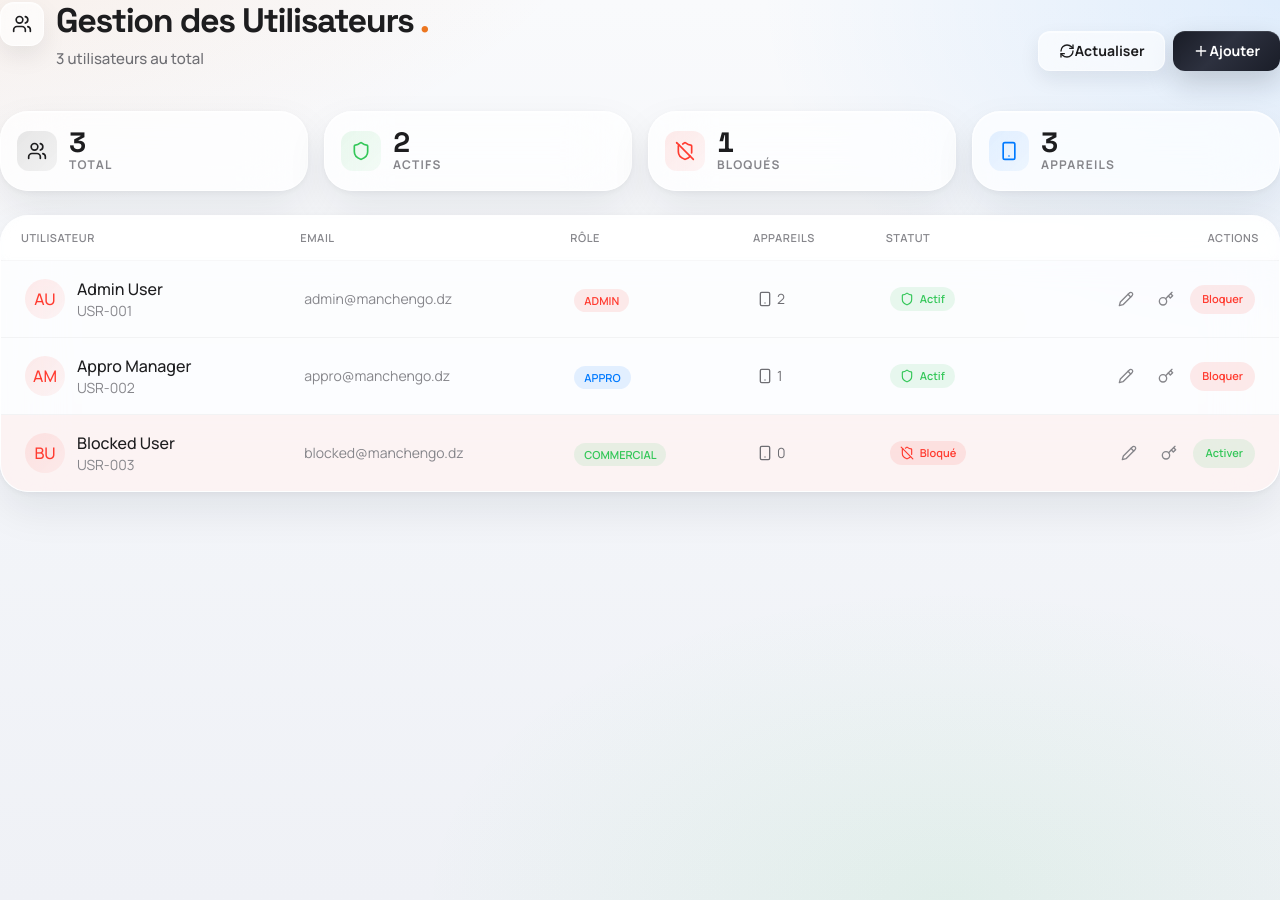
Test: UsersManagementPage › opens create user modal on Ajouter click
Click the button "Ajouter".
click(1227, 51)  # box [1174,31,1279,71]
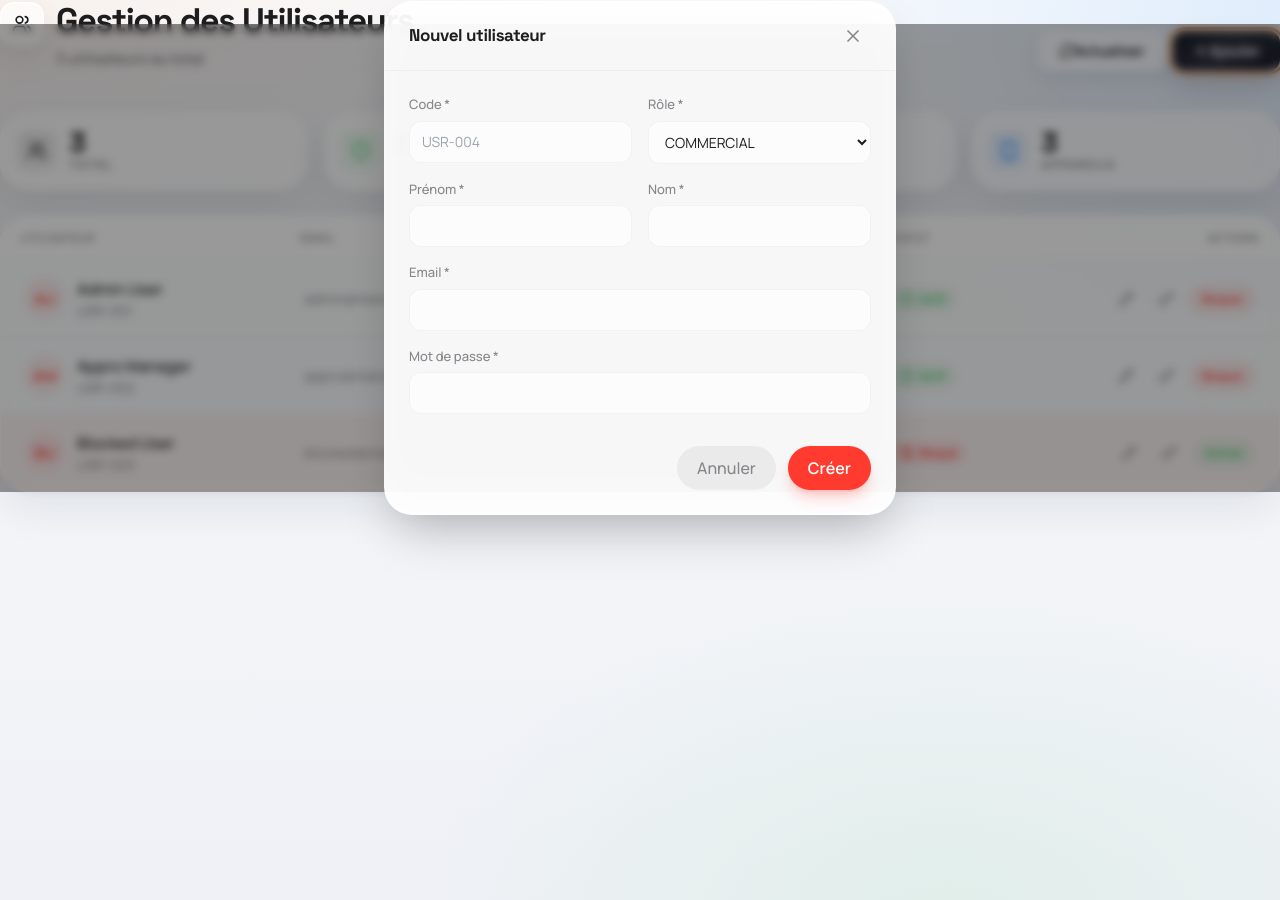
Result: the heading "Nouvel utilisateur" is shown at [409,23,546,49]
Result: the text "Code *" is shown at [409,95,450,113]
Result: the text "Email *" is shown at [409,263,450,281]
